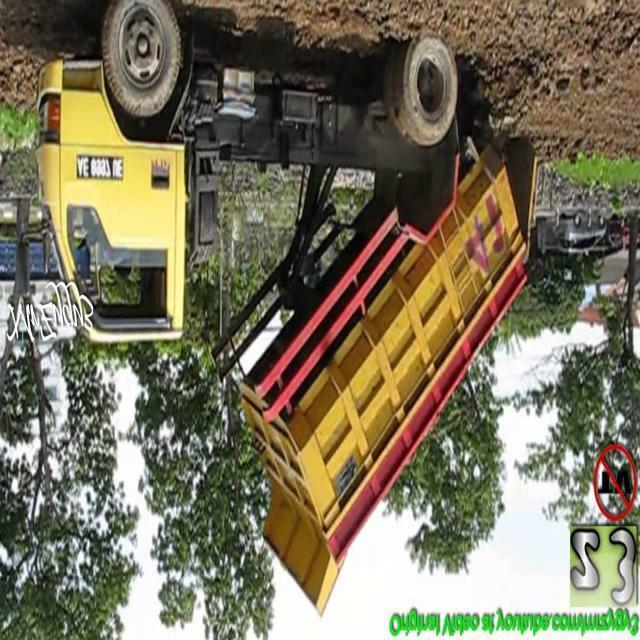truck: (37, 4, 544, 618)
